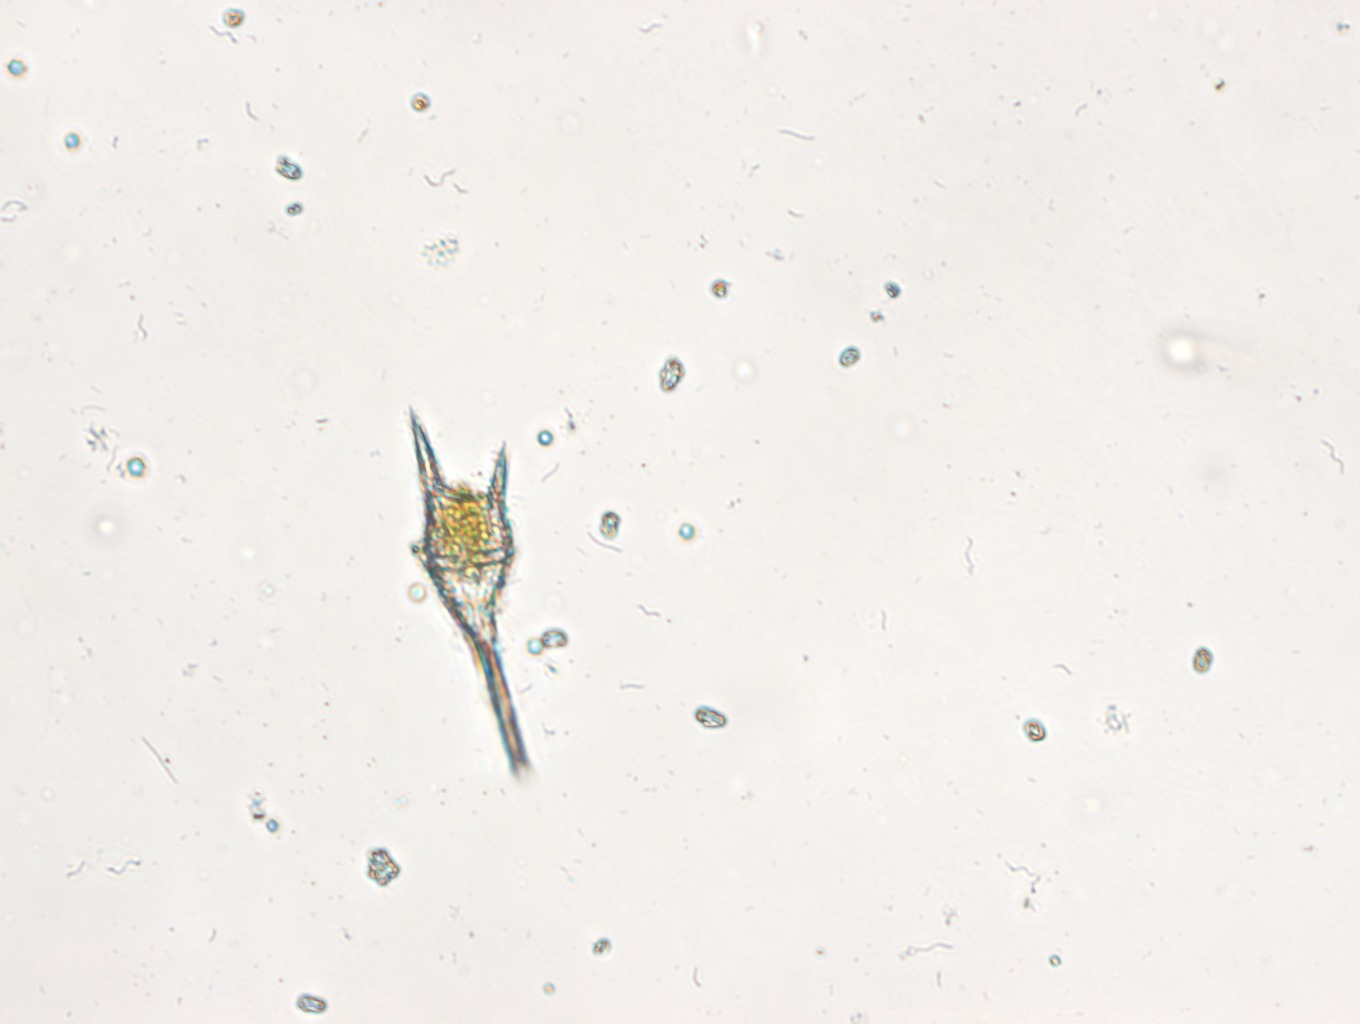ceratium furca: (393, 401, 546, 782)
